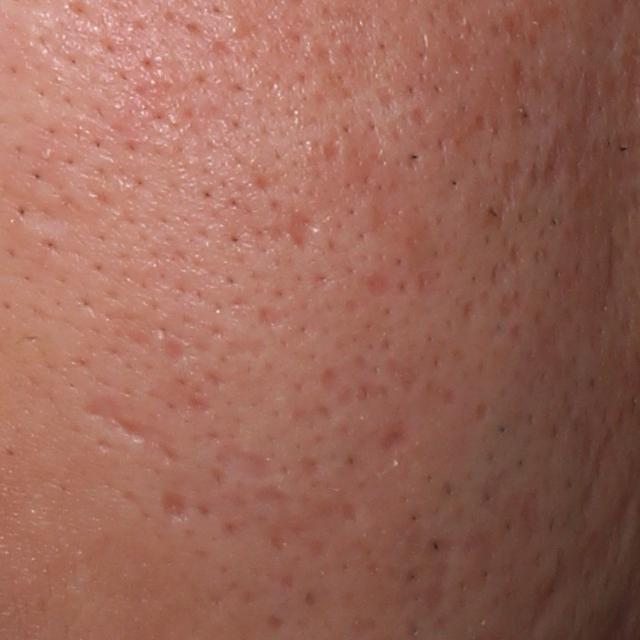atrophic_scar: (522, 549, 574, 629), (87, 389, 156, 444), (219, 443, 285, 481), (371, 414, 416, 452), (598, 233, 624, 289), (544, 132, 570, 185), (224, 336, 273, 363), (581, 66, 603, 125), (289, 212, 322, 250), (157, 485, 188, 521), (502, 158, 527, 200), (367, 266, 393, 295)
